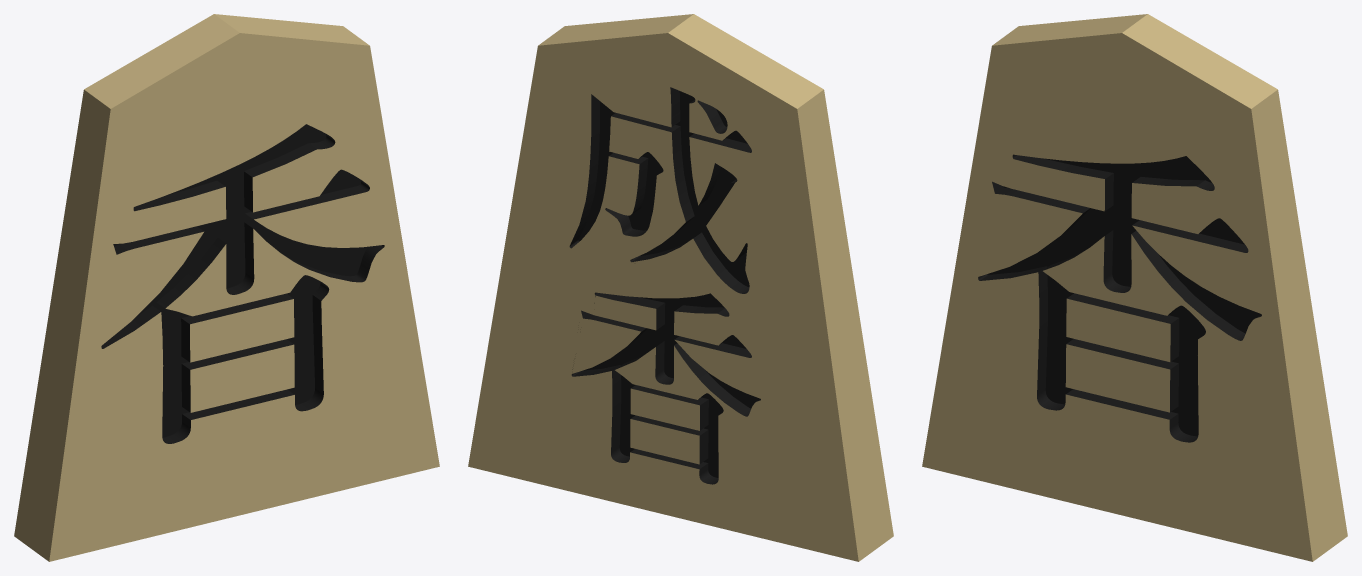
3 renders of one model, left to right at view 1: azimuth 30°, elevation 25°; view 2: azimuth 150°, elevation 25°; view 3: azimuth 330°, elevation 25°, orthographic.
Parts seen in each view (by area): view 1: kyousha; view 2: kyousha; view 3: kyousha.
Boxes of the visible parts, left/top/right/bottom form: kyousha: left=14, top=14, right=439, bottom=561; kyousha: left=468, top=14, right=893, bottom=561; kyousha: left=922, top=14, right=1347, bottom=561.
Size of the model in its own units: 0.0257 by 0.03 by 0.004.
